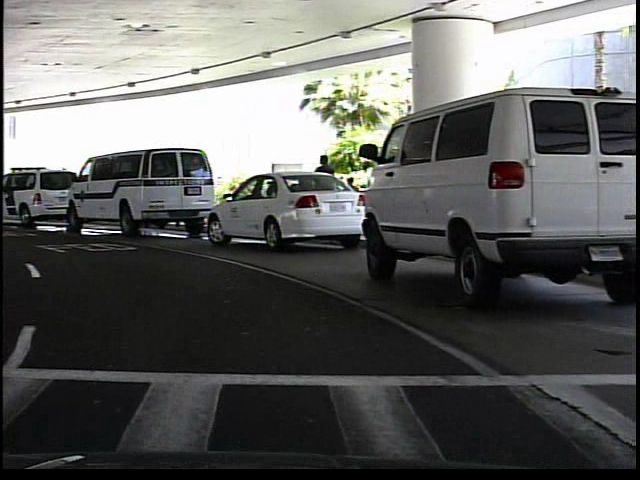person: (310, 151, 339, 229), (343, 175, 360, 228)
